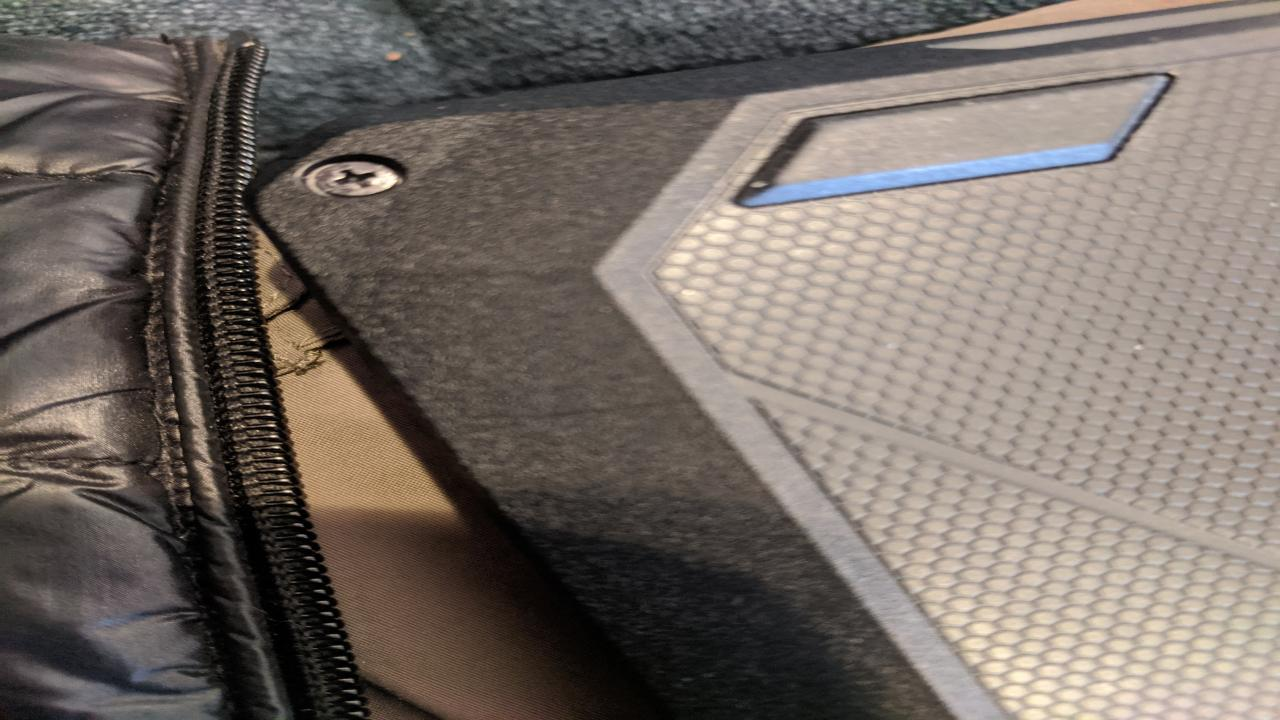CRS: (311, 160, 398, 198)
